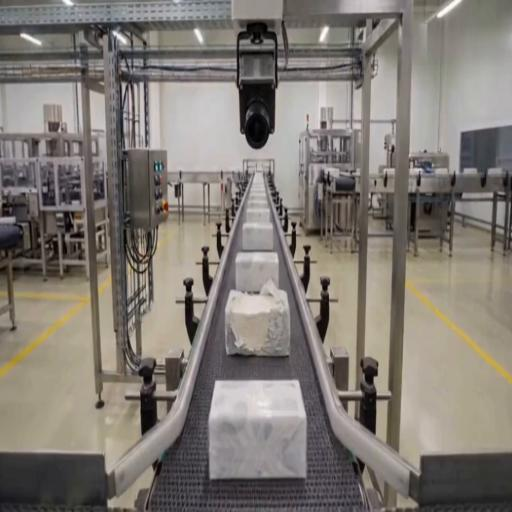defective: (209, 379, 306, 480), (224, 284, 291, 356)
good: (234, 252, 280, 295), (242, 221, 276, 252), (243, 191, 269, 214), (244, 176, 270, 198), (245, 207, 272, 223)
